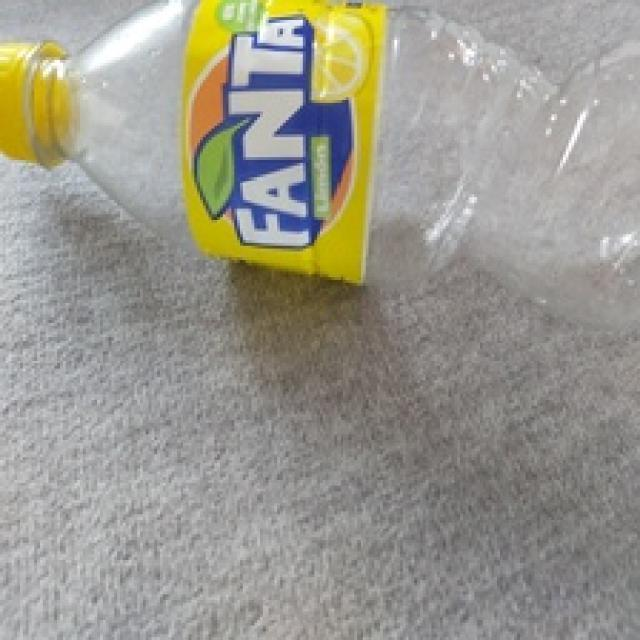Plastic: (0, 0, 639, 328)
